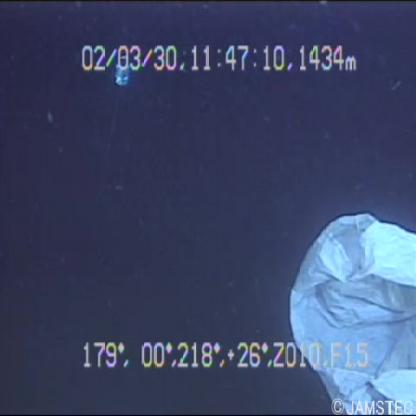Rác: (282, 193, 416, 410)
